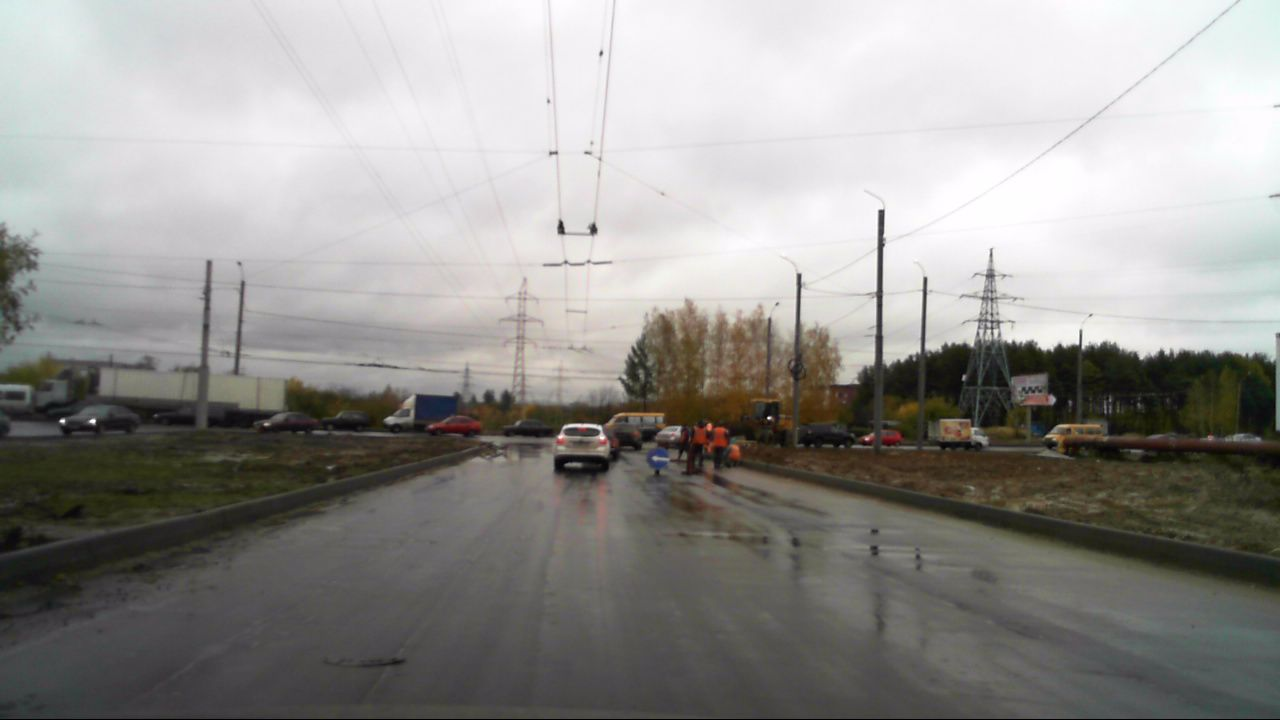Turn Left: (646, 447, 669, 469)
